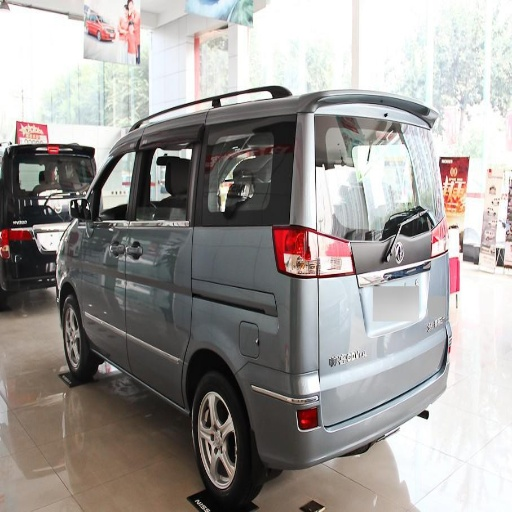back_bumper: (241, 281, 445, 467)
back_glass: (216, 123, 293, 214)
back_left_light: (274, 228, 319, 277)
back_right_door: (80, 242, 126, 363)
trunk: (279, 231, 446, 387), (150, 222, 299, 376)
